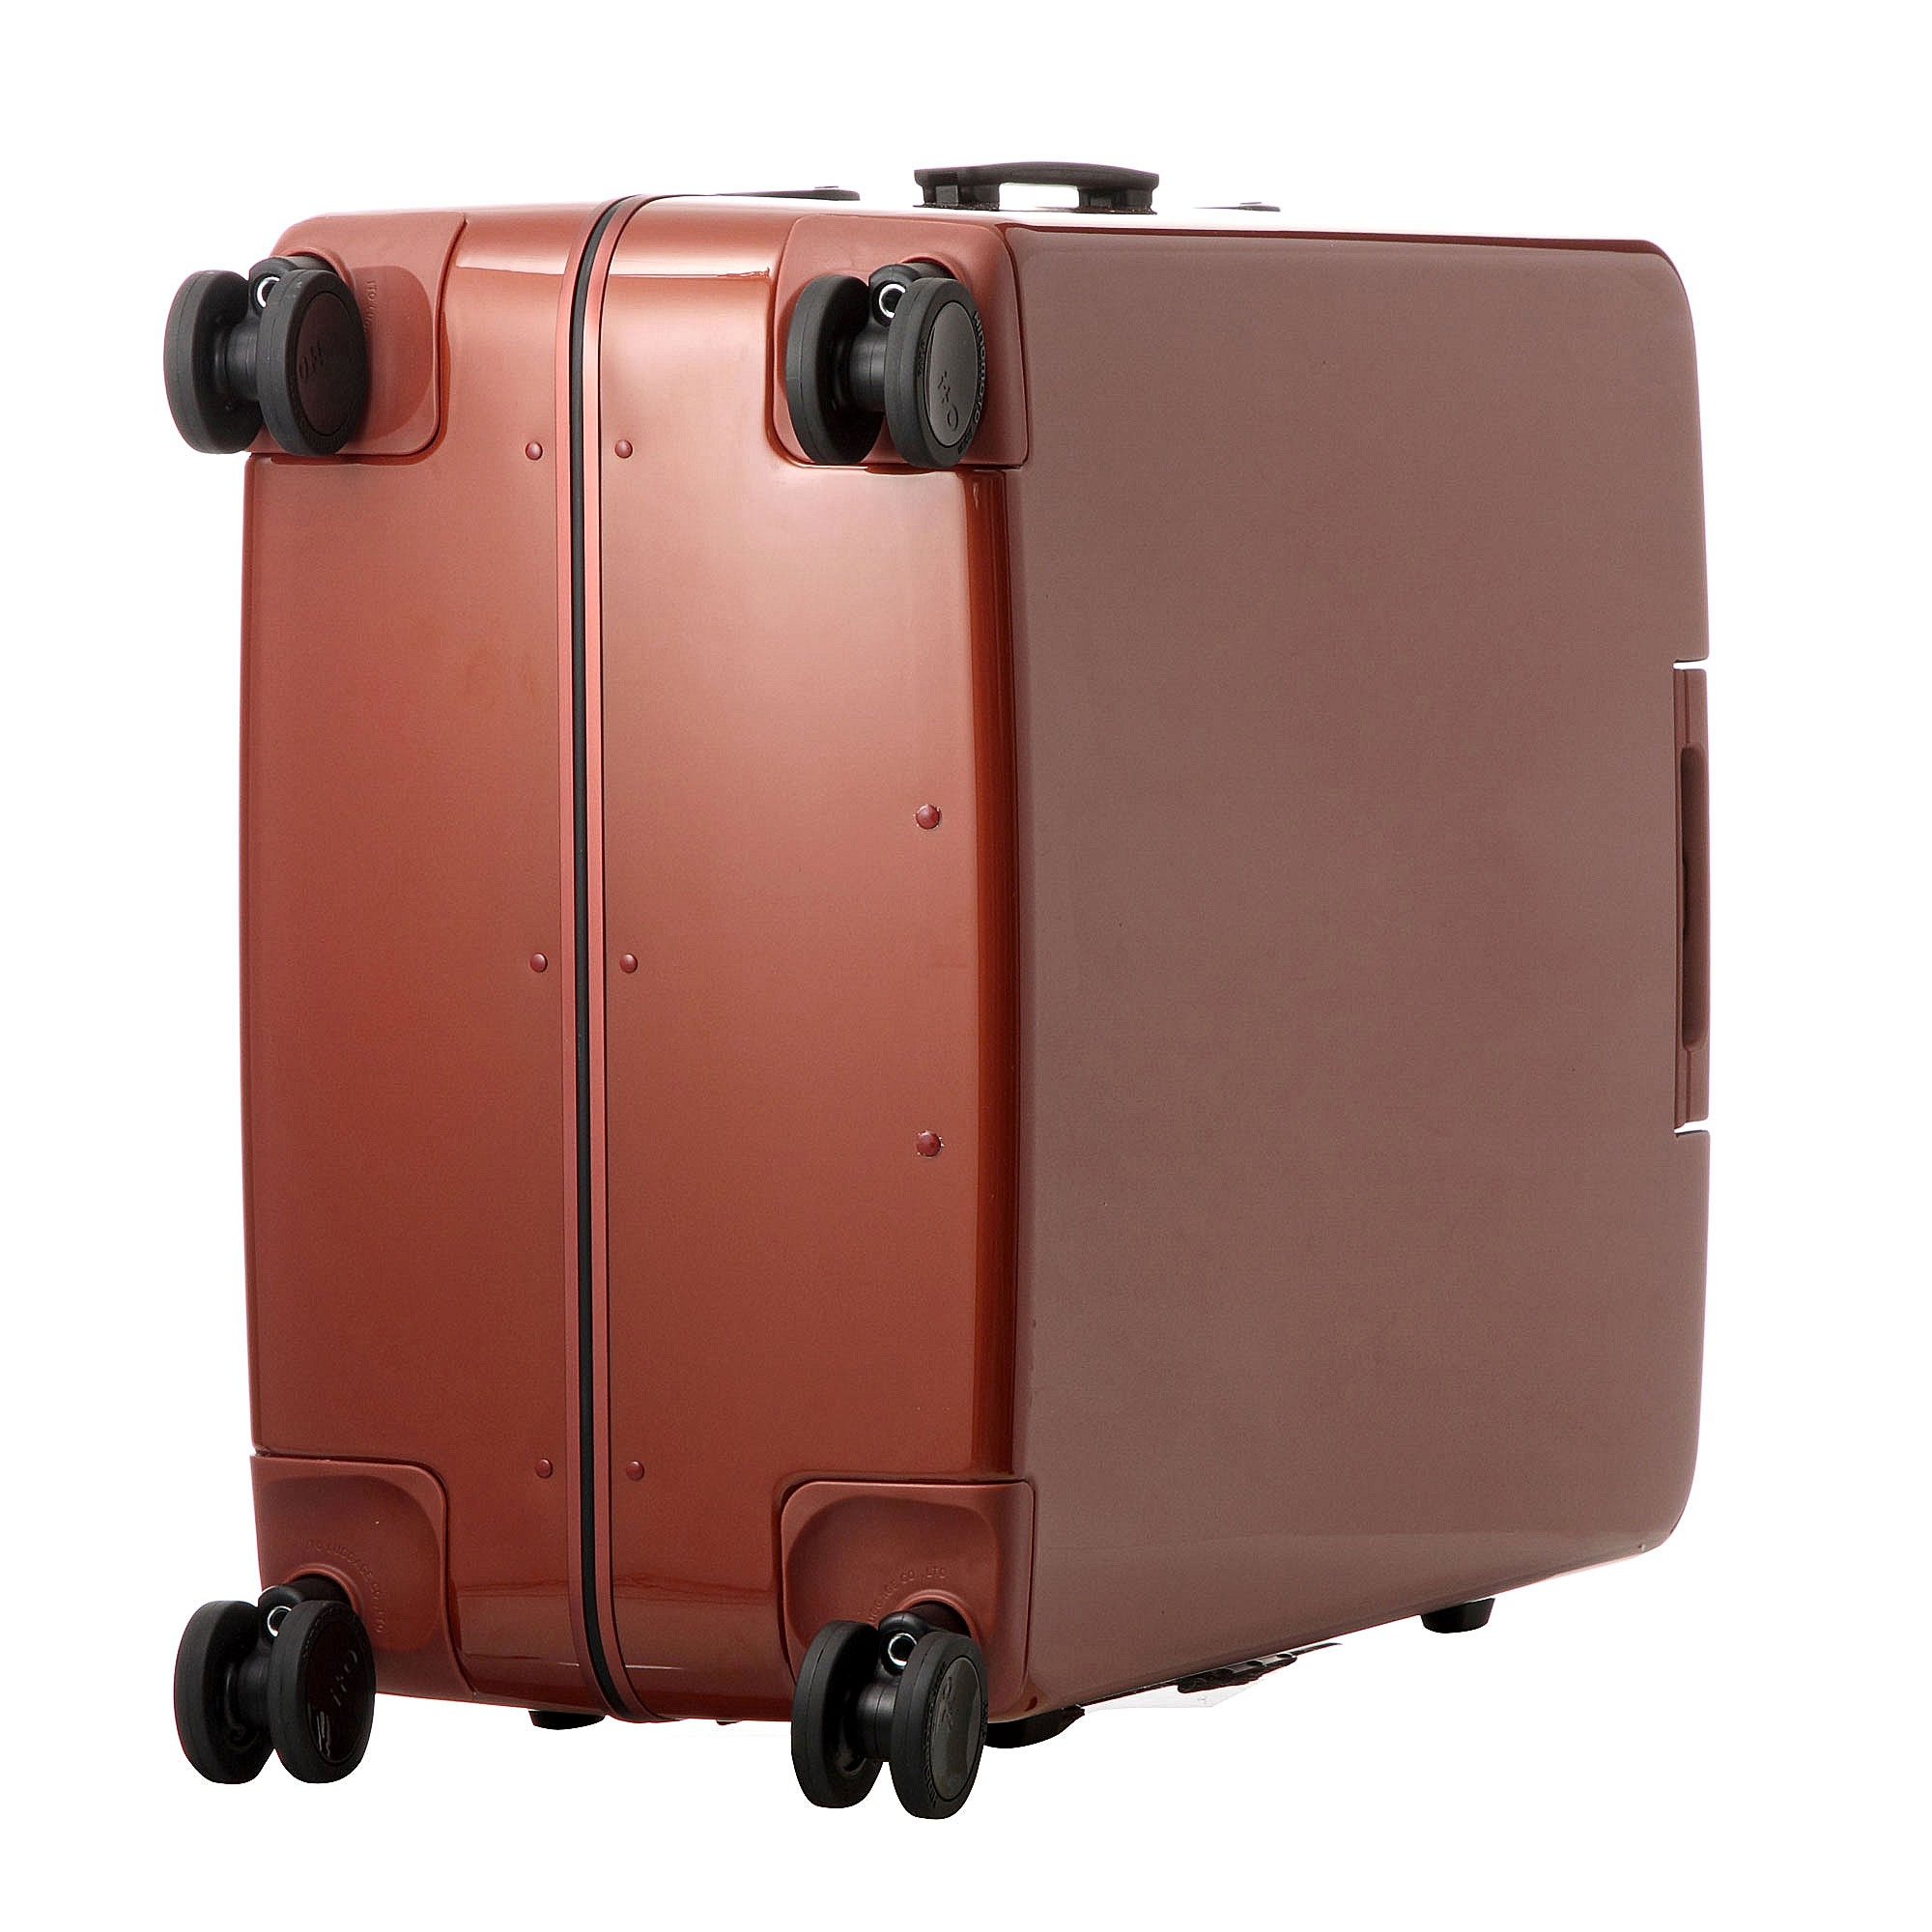suitcase: (163, 159, 1716, 1822)
